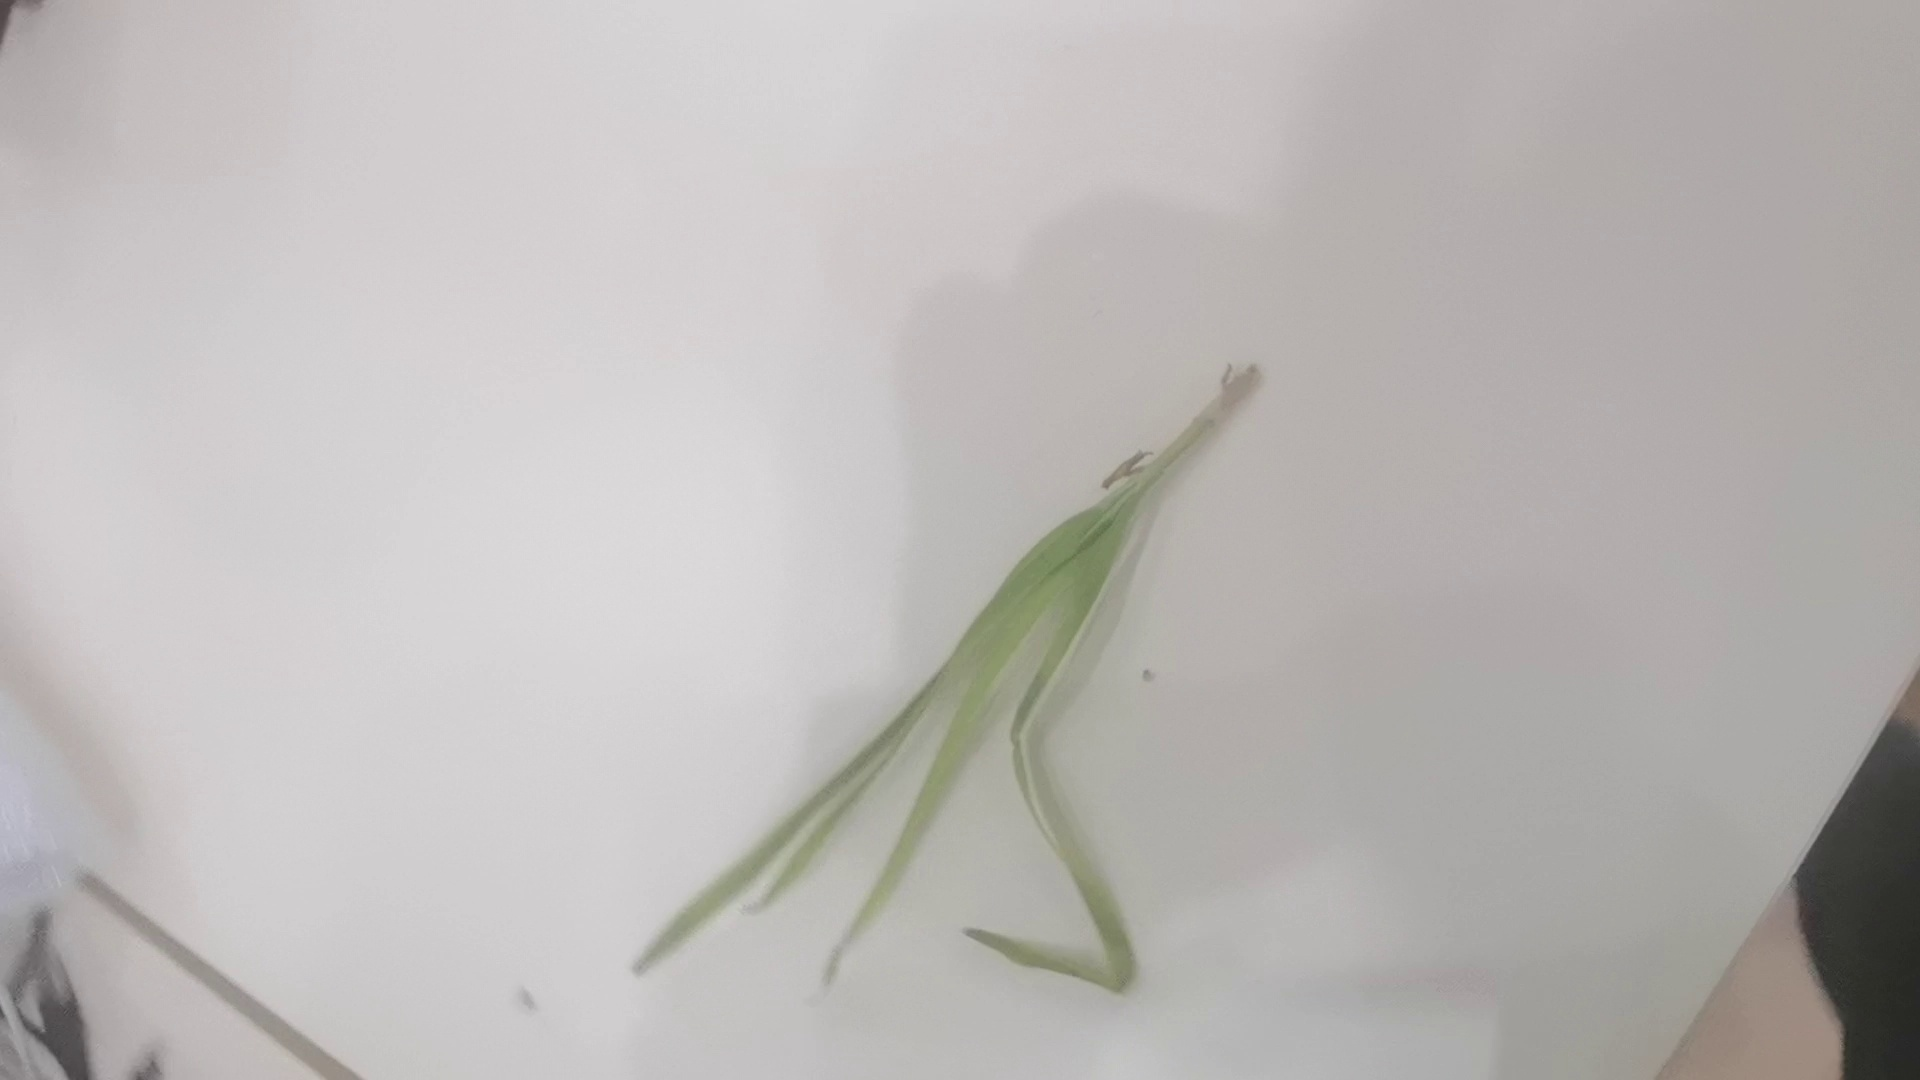chives: (593, 351, 1266, 1006)
